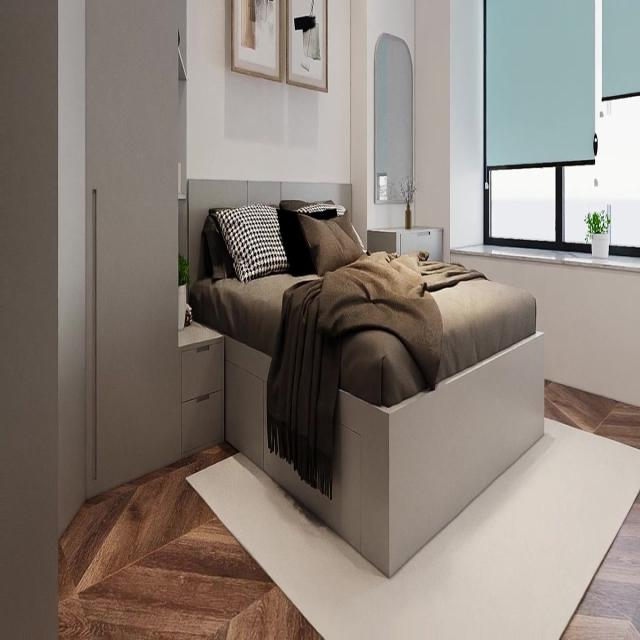obstacle: (187, 178, 545, 578), (179, 338, 227, 458)
